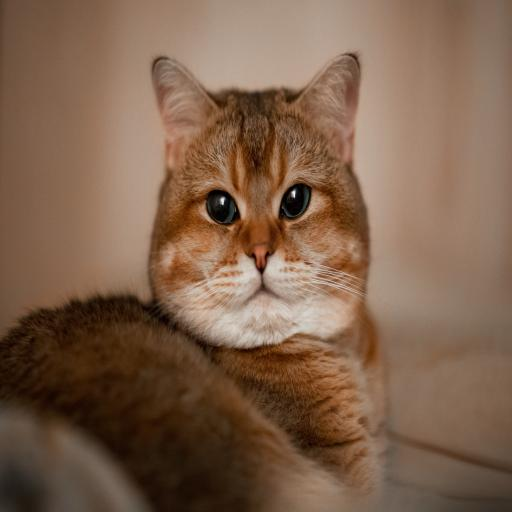cats: (149, 54, 386, 506)
